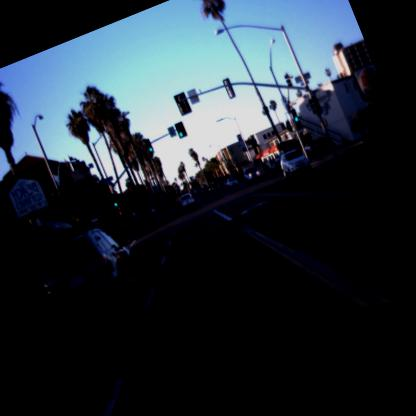trafficlight: (174, 120, 187, 139), (290, 110, 302, 128), (108, 193, 120, 209), (144, 137, 154, 153)
